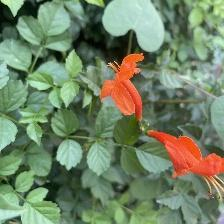honeysuckle: (98, 52, 149, 125)
